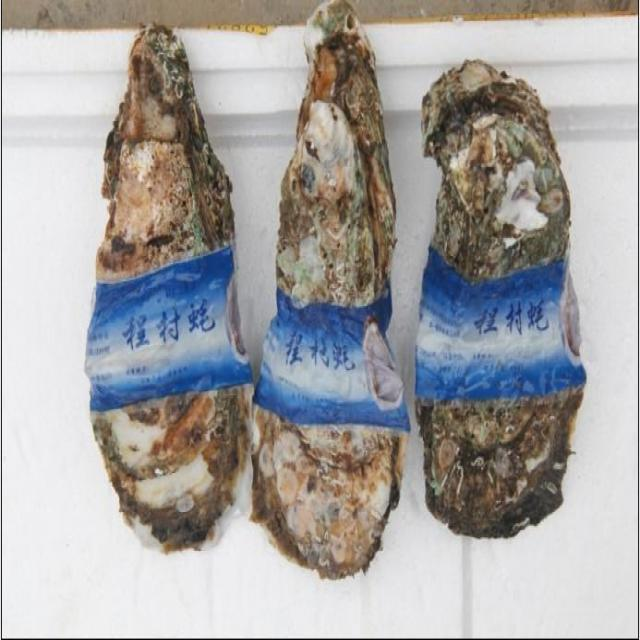Oyster- Indeterminate: (253, 1, 411, 570), (413, 60, 588, 542), (85, 28, 249, 513)
